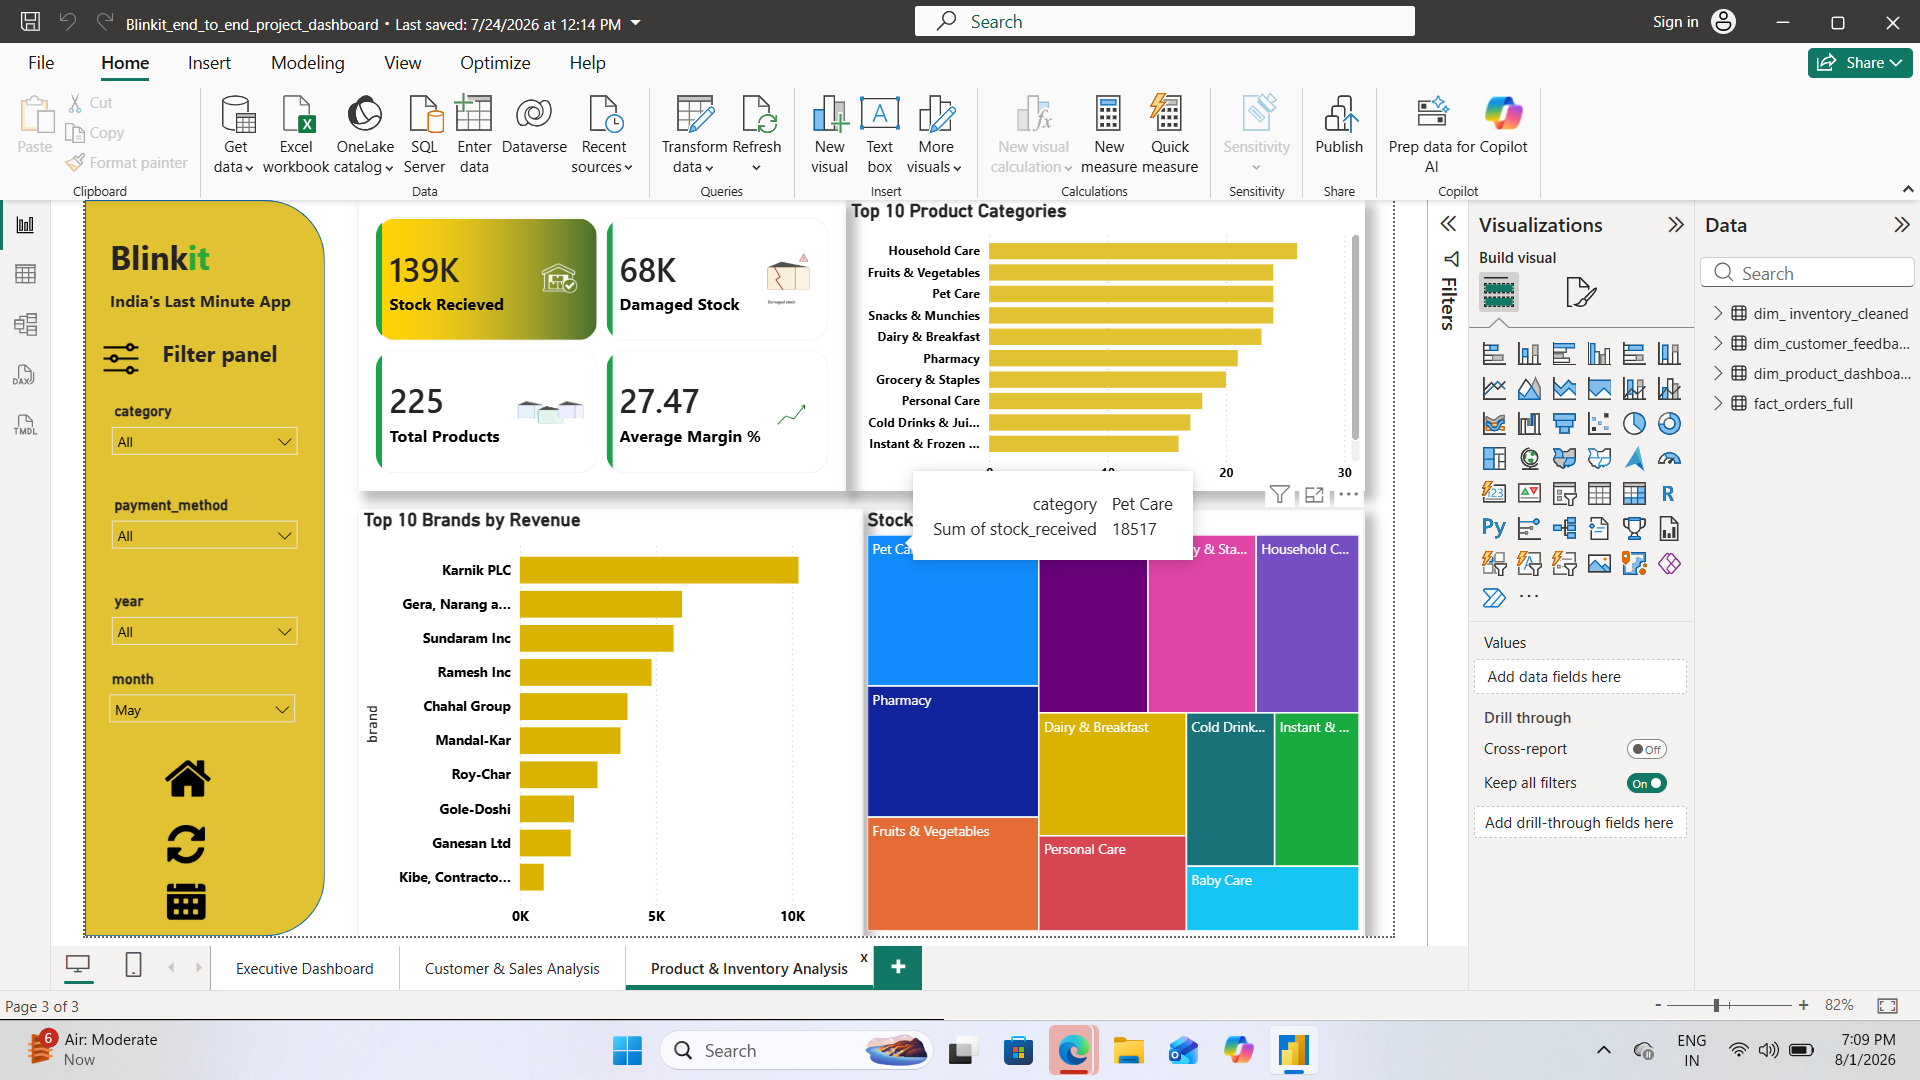

The page's visual inventory and layout, read from the dashboard file:
{"tool":"powerbi","page":{"name":"Product & Inventory Analysis","canvas":[1280,720],"ordinal":2},"visuals":[{"type":"shape","box":[0,0,234.8,720.2],"z":0},{"type":"textbox","box":[19.6,29.3,165.1,56.3],"z":1000},{"type":"textbox","box":[19.6,81.9,195.7,35.5],"z":2000},{"type":"textbox","box":[70.9,130.8,134.5,39.1],"z":3000},{"type":"image","box":[0,129.6,70.9,52.6],"z":4000},{"type":"slicer","fields":{"Values":["dim_product_dashboard.category"]},"box":[15.9,193.2,201.8,75.8],"z":5000},{"type":"slicer","fields":{"Values":["fact_orders_full.payment_method"]},"box":[15.9,284.9,201.8,75.8],"z":6000},{"type":"slicer","fields":{"Values":["fact_orders_full.year"]},"box":[15.9,379.1,201.8,75.8],"z":7000},{"type":"slicer","fields":{"Values":["fact_orders_full.month"]},"box":[13.5,454.9,201.8,75.8],"z":8000},{"type":"image","box":[73.8,611.2,51.2,37.5],"z":9000},{"type":"image","box":[78.8,531.2,45,70],"z":10000},{"type":"image","box":[78.8,666.2,41.2,40],"z":11000},{"type":"cardVisual","fields":{"Data":["Sum(dim_ inventory_cleaned.stock_received)","Sum(dim_ inventory_cleaned.damaged_stock)","Count(dim_ inventory_cleaned.product_id)","Avg(fact_orders_full.margin_percentage)"]},"box":[267.8,0,476.9,284.9],"z":12000},{"type":"clusteredBarChart","title":"Top 10 Product Categories","fields":{"Category":["dim_product_dashboard.category"],"Y":["CountNonNull(dim_product_dashboard.product_id)"]},"box":[744.7,0,507.5,284.9],"z":13000},{"type":"clusteredBarChart","title":"Top 10 Brands by Revenue ","fields":{"Category":["dim_product_dashboard.brand"],"Y":["Sum(fact_orders_full.total_sales)"]},"box":[267.6,301.9,494,418.5],"z":13001},{"type":"treemap","title":"Stock Received by Category","fields":{"Group":["dim_product_dashboard.category"],"Values":["Sum(dim_ inventory_cleaned.stock_received)"]},"box":[761,302,491,418],"z":13002}]}

Visuals, with their boxes on the page's 1280x720 design canvas (x1, y1, x2, y2). These are canvas units, not pixel positions in the 1920x1080 screenshot, which may show the page scaled, cropped or inside an application window:
shape: <region>0, 0, 235, 720</region>
textbox: <region>20, 29, 185, 86</region>
textbox: <region>20, 82, 215, 117</region>
textbox: <region>71, 131, 205, 170</region>
image: <region>0, 130, 71, 182</region>
slicer - dim_product_dashboard.category: <region>16, 193, 218, 269</region>
slicer - fact_orders_full.payment_method: <region>16, 285, 218, 361</region>
slicer - fact_orders_full.year: <region>16, 379, 218, 455</region>
slicer - fact_orders_full.month: <region>14, 455, 215, 531</region>
image: <region>74, 611, 125, 649</region>
image: <region>79, 531, 124, 601</region>
image: <region>79, 666, 120, 706</region>
cardVisual - Sum(dim_ inventory_cleaned.stock_received) x Sum(dim_ inventory_cleaned.damaged_stock): <region>268, 0, 745, 285</region>
"Top 10 Product Categories" clusteredBarChart: <region>745, 0, 1252, 285</region>
"Top 10 Brands by Revenue " clusteredBarChart: <region>268, 302, 762, 720</region>
"Stock Received by Category" treemap: <region>761, 302, 1252, 720</region>
